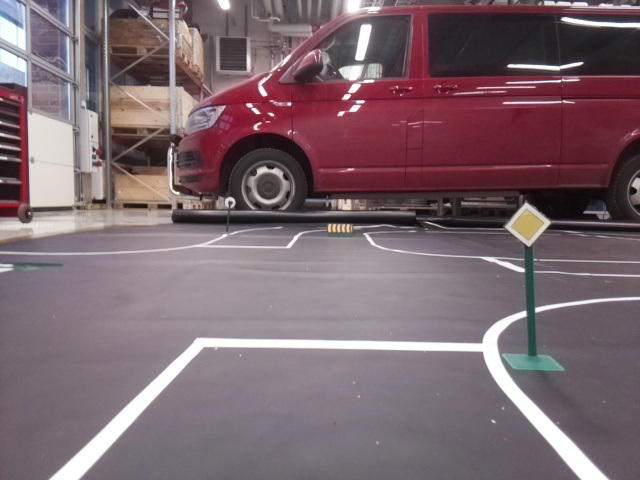Priority: (502, 202, 553, 246)
